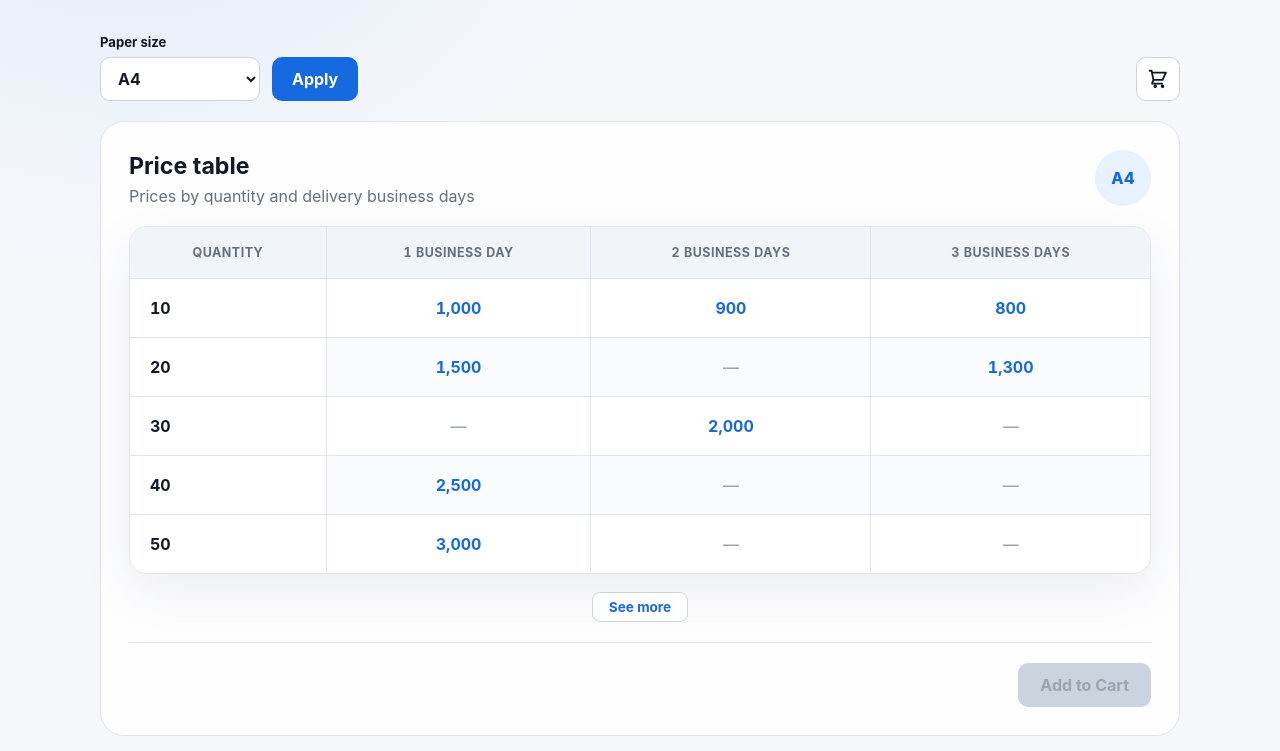
Test: App › reveals all ten loaded rows without making another request
(page scrolled)
Click the button "See more" at (640, 607), box [592,592,688,622]
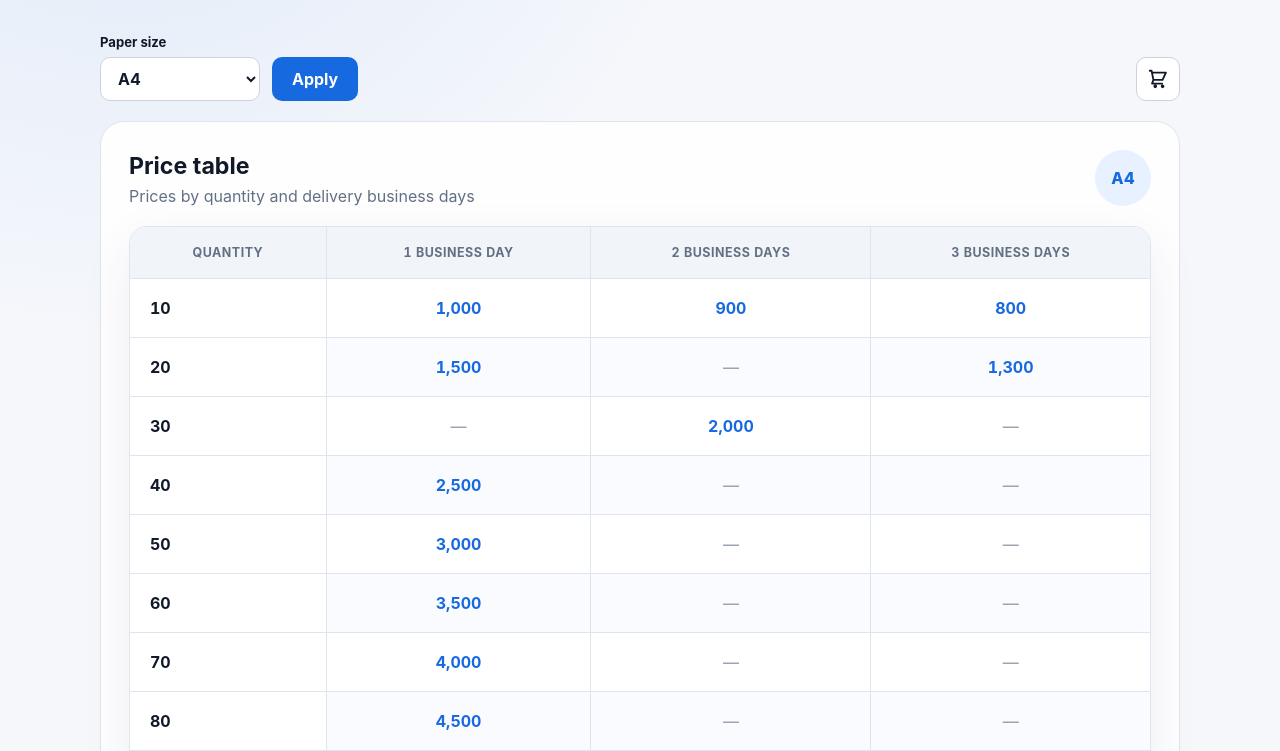
Now the button "See more" is gone
